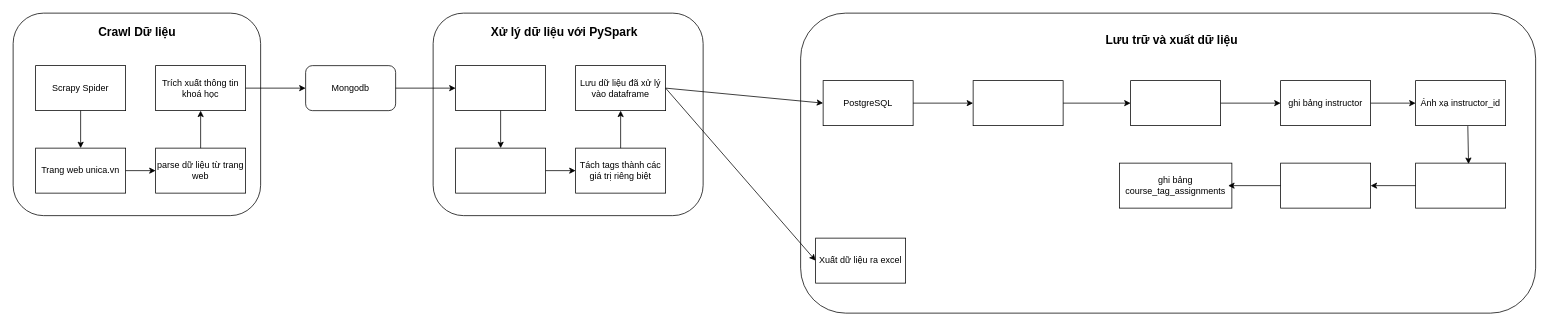
The diagram is 1549 pixels wide and 326 high, and some of its shapes have lost their labels. Each missing label, with the centre of its shape:
Chuyển đổi duration thành giờ: [500,170]
Ghi vào bảng course: [1460,185]
Ghi vào bảng course_tag: [1017,103]
Làm sạch dữ liệu: [500,88]
Ánh xạ course_id với tag_id: [1325,185]
Ánh xạ tags từ tag_name sang tag_id: [1175,103]
